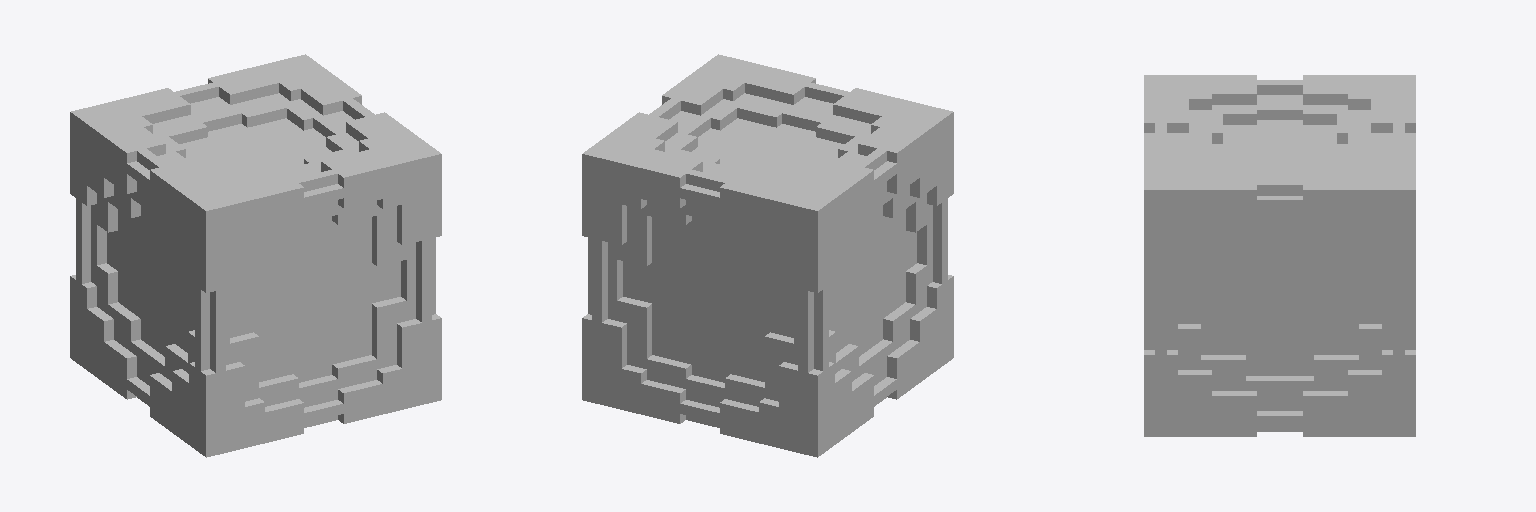
Rendered from wall.obj.
3 views of the same model, side by side, from view 1: azimuth 30°, elevation 25°; view 2: azimuth 150°, elevation 25°; view 3: azimuth 270°, elevation 25° (orthographic).
Bounding box in the file's own units: 24 × 24 × 24.